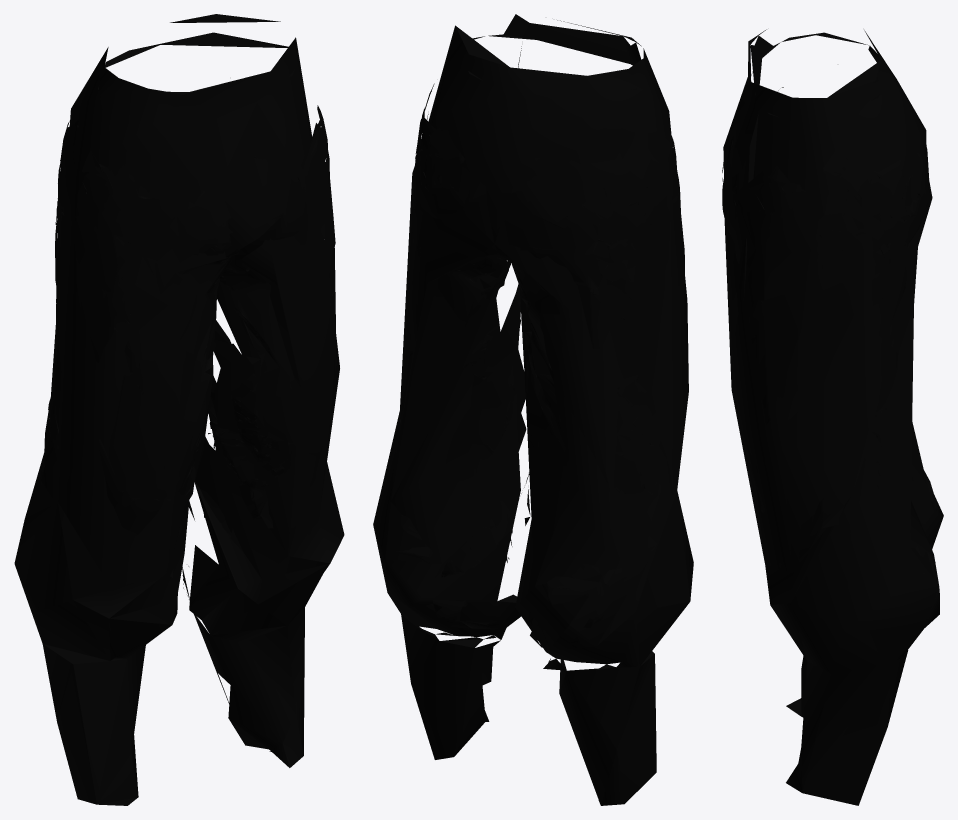
The model's file is assassin_m_trousers.glb.
3 views of the same model, side by side, from view 1: azimuth 30°, elevation 25°; view 2: azimuth 150°, elevation 25°; view 3: azimuth 270°, elevation 25° (orthographic). The views are drawn at different scales.
Parts seen in each view (by area): view 1: lo; view 2: lo; view 3: lo.
Part boxes in pixels (x1,y1,x2,y2): lo: (14, 14, 344, 805); lo: (373, 14, 693, 805); lo: (722, 29, 943, 805).
Size of the model in its own units: 0.4001 by 0.93 by 0.2638.
Materials: 1 (1 with a texture image).
